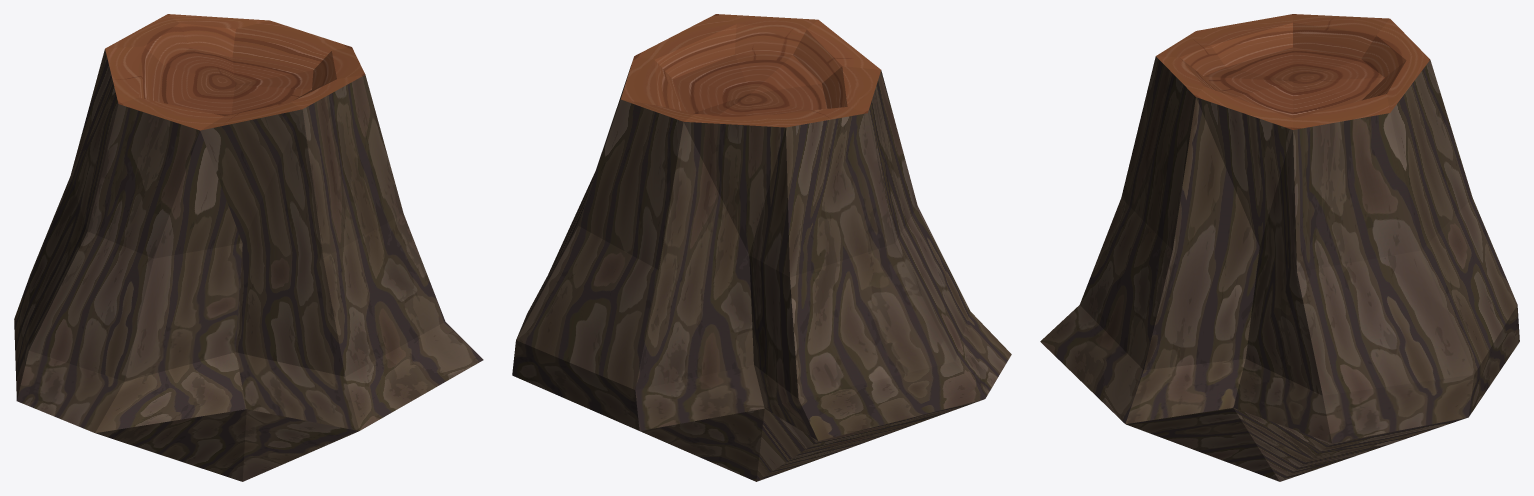
Rendered from Tree_Stump_01.fbx.
3 views of the same model, side by side, from view 1: azimuth 30°, elevation 25°; view 2: azimuth 150°, elevation 25°; view 3: azimuth 270°, elevation 25° (orthographic).
Visible parts, largest first — view 1: SM_Tree_Stump_01; view 2: SM_Tree_Stump_01; view 3: SM_Tree_Stump_01.
Boxes of the visible parts, bbox=[...] form: SM_Tree_Stump_01: bbox=[14, 14, 483, 481]; SM_Tree_Stump_01: bbox=[512, 14, 1011, 481]; SM_Tree_Stump_01: bbox=[1040, 14, 1519, 481].
Bounding box in the file's own units: 86.7 × 80.29 × 82.1.
